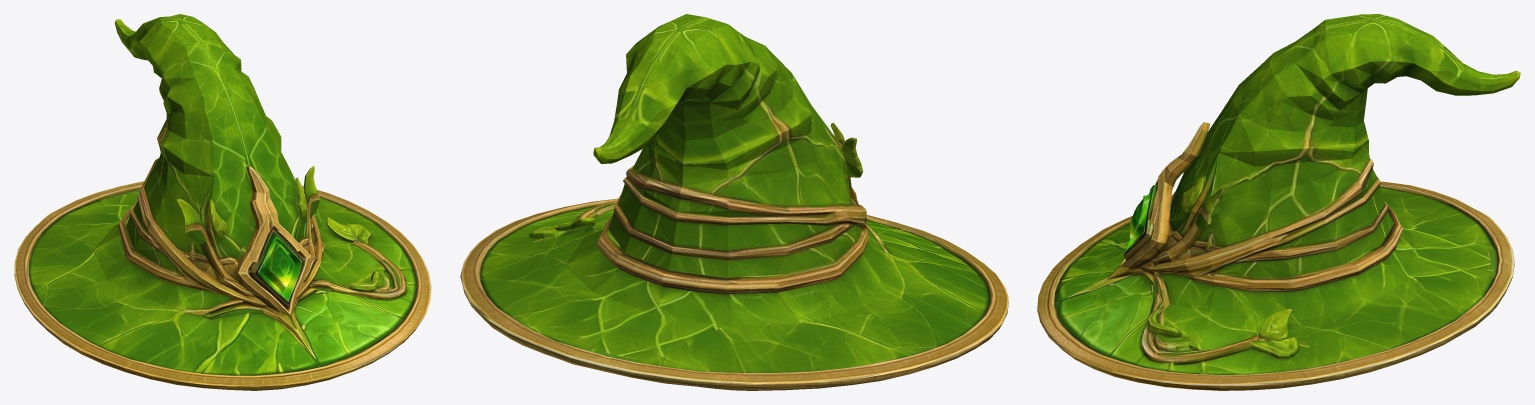
File: GreenMageHat.glb
3 views of the same model, side by side, from view 1: azimuth 30°, elevation 25°; view 2: azimuth 150°, elevation 25°; view 3: azimuth 270°, elevation 25° (orthographic). The views are drawn at different scales.
Bounding box in the file's own units: 1.89 × 1.27 × 1.91.
1 material, 1 textured.
